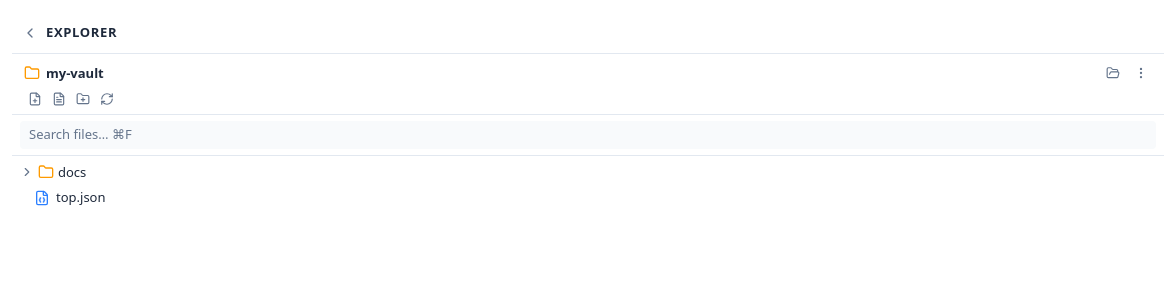
ExplorerPanel — ARIA tree semantics & keyboard nav (KB-033) › FS-2.3-63: ArrowLeft on an expanded folder collapses it
Focus the element showing "docs top.json" at (81, 197), box x1=20 y1=163 x2=106 y2=206
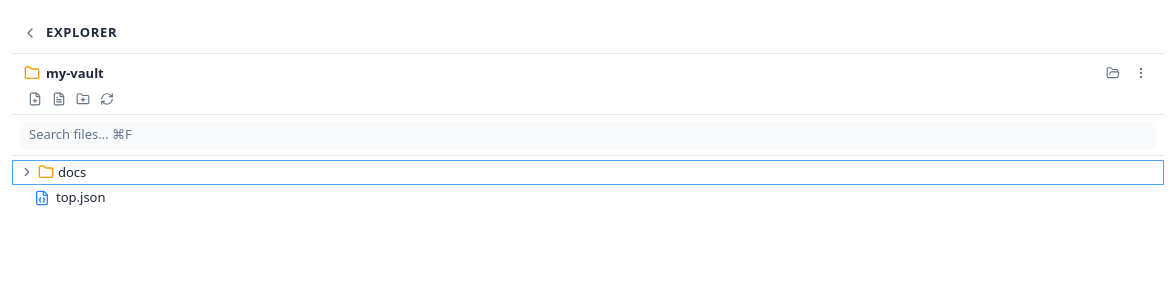
Press ArrowRight in the element showing "docs top.json", box x1=12 y1=156 x2=1164 y2=214
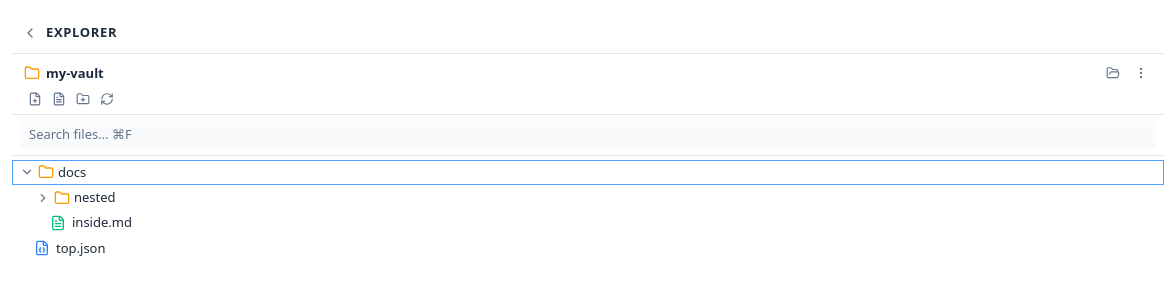
Expected: the text "inside.md" is shown, x1=72 y1=213 x2=132 y2=231
Press ArrowLeft in the element showing "docs nested inside.md top.json", box x1=12 y1=156 x2=1164 y2=265
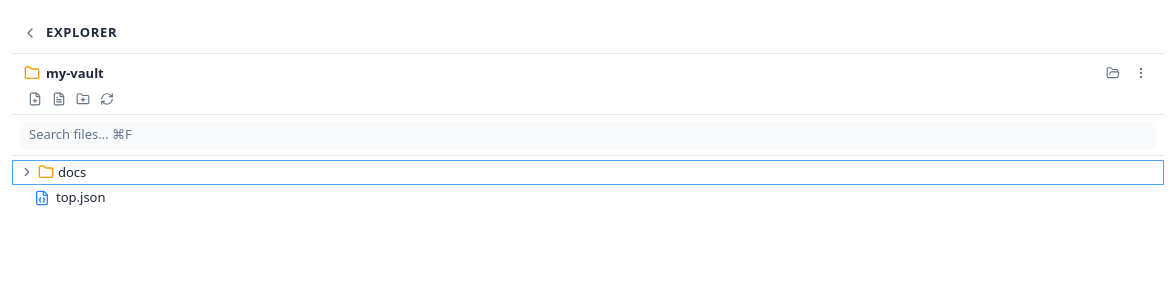
Expected: the text "inside.md" is gone
